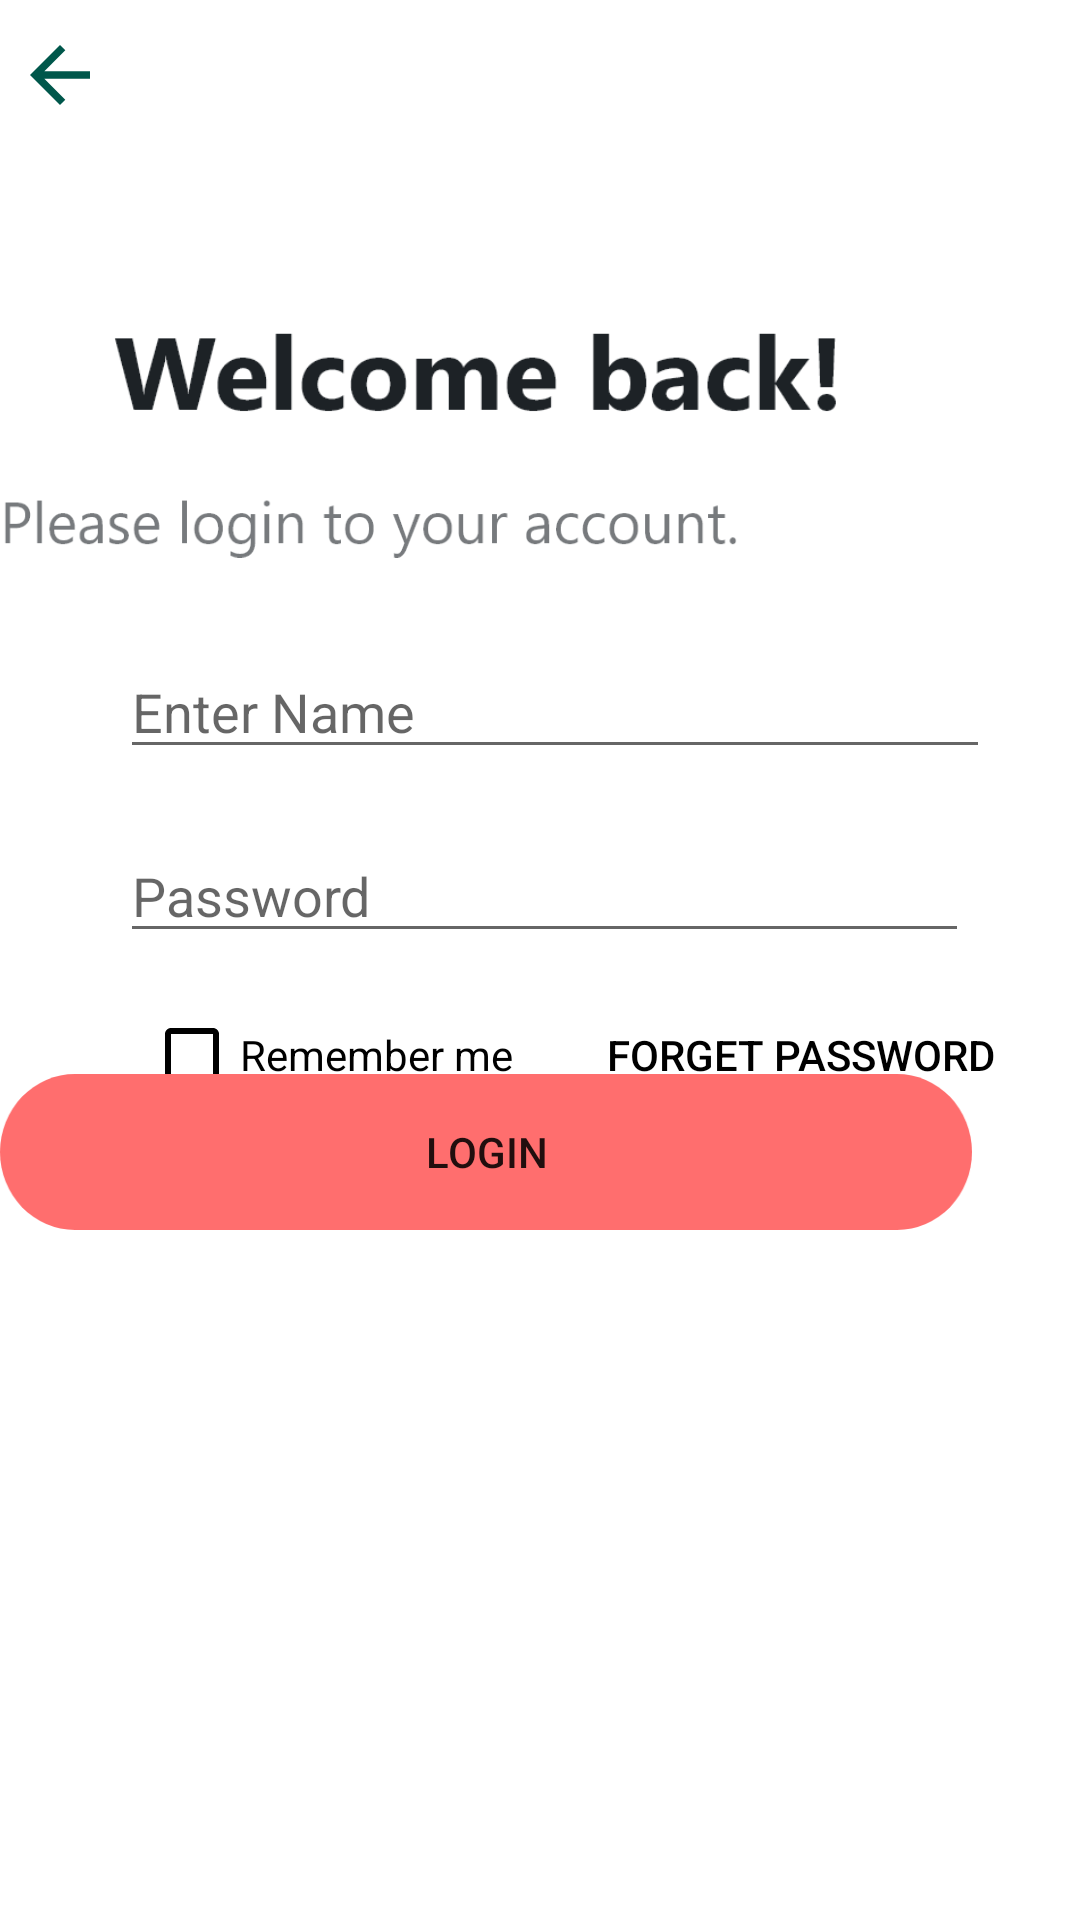

Where icons sit on this 1080 × 1920 app screen, as region(x1, y1, x2, y2):
arrow back: region(30, 45, 90, 105)
